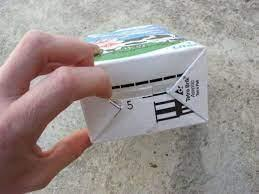cardboard: (83, 26, 211, 144)
